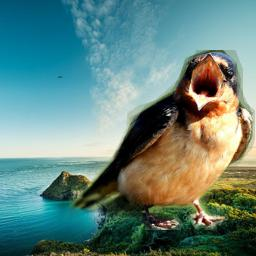Swallow: (69, 50, 255, 230)
